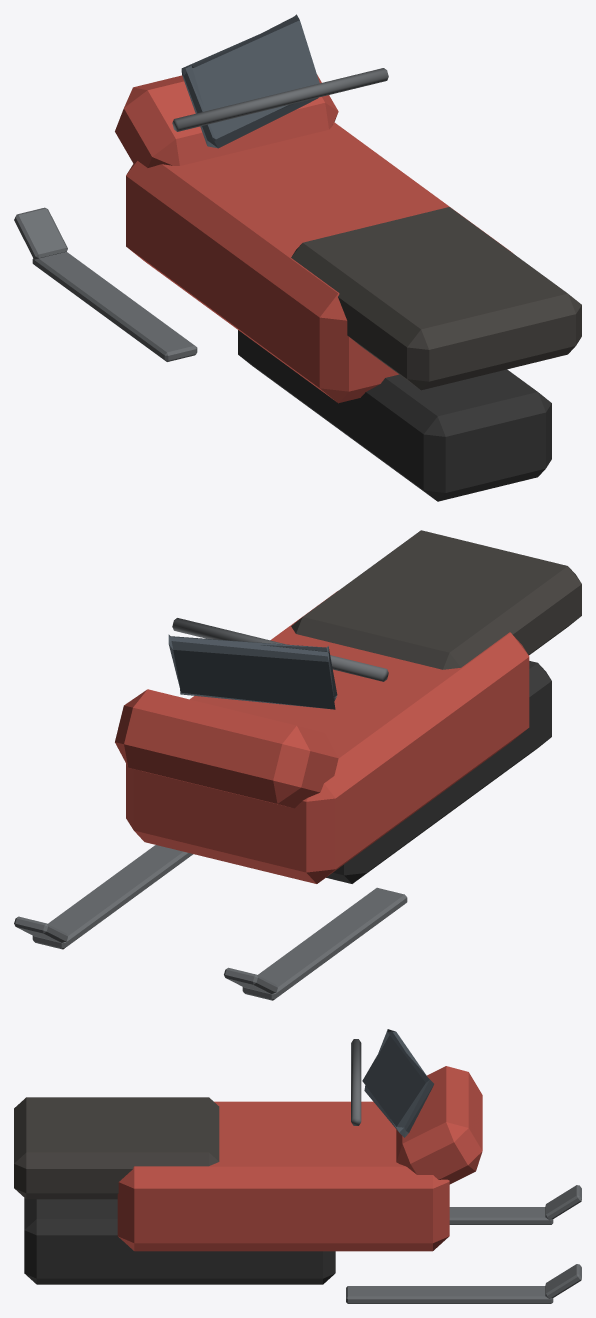
The model's file is v_snowmobile_wreck.glb.
3 renders of one model, top to bottom at view 1: azimuth 30°, elevation 25°; view 2: azimuth 150°, elevation 25°; view 3: azimuth 270°, elevation 25°, orthographic. The views are drawn at different scales.
Parts seen in each view (by area): view 1: Snowmobile_wreck; view 2: Snowmobile_wreck; view 3: Snowmobile_wreck.
Part boxes in pixels (box(x1,y1,x2,y2)): Snowmobile_wreck: box(14, 14, 581, 501); Snowmobile_wreck: box(14, 530, 581, 1000); Snowmobile_wreck: box(14, 1029, 581, 1303).
Size of what is drawn, in the model's own units: 1.04 by 1.12 by 2.74.
